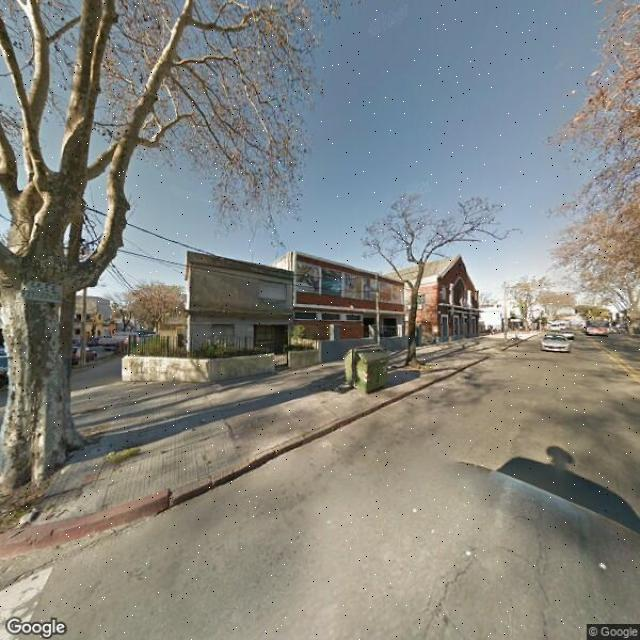garbage container: (336, 337, 399, 402)
